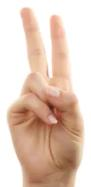front: (3, 7, 84, 182)
